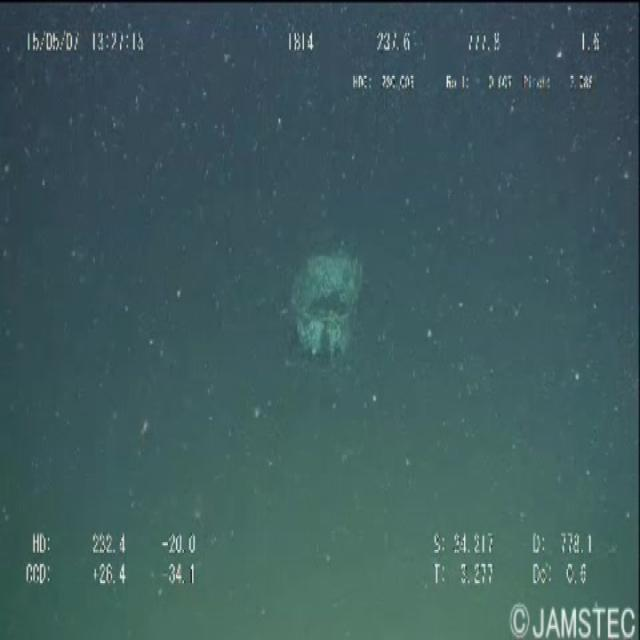Litter: (272, 237, 373, 385)
